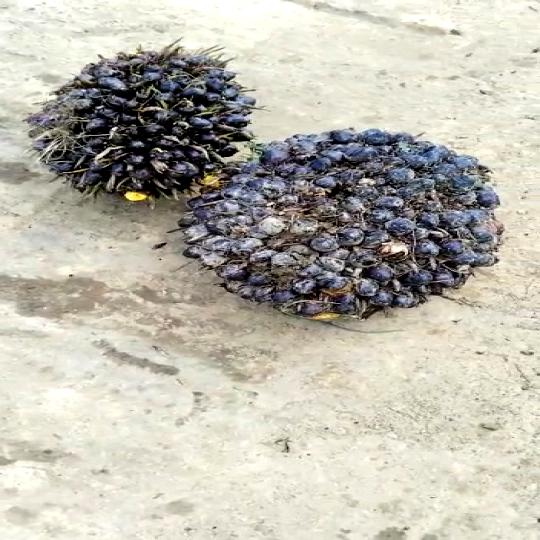mentah: (170, 125, 523, 330), (41, 43, 262, 204)
